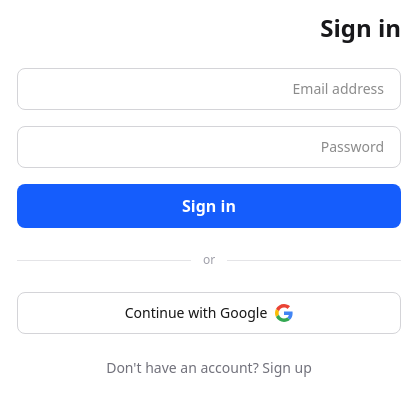
AuthForm › switches to sign-up mode when toggle is clicked
Click the button "Don't have an account? Sign up": {"x": 209, "y": 368} [17,358,401,378]
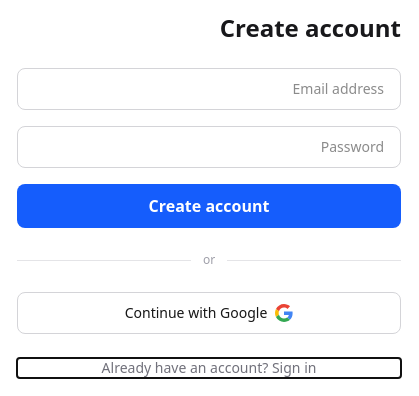
Now the heading "Create account" is shown, box [220,11,401,44]
Now the button "Create account" is shown, box [17,184,401,228]
